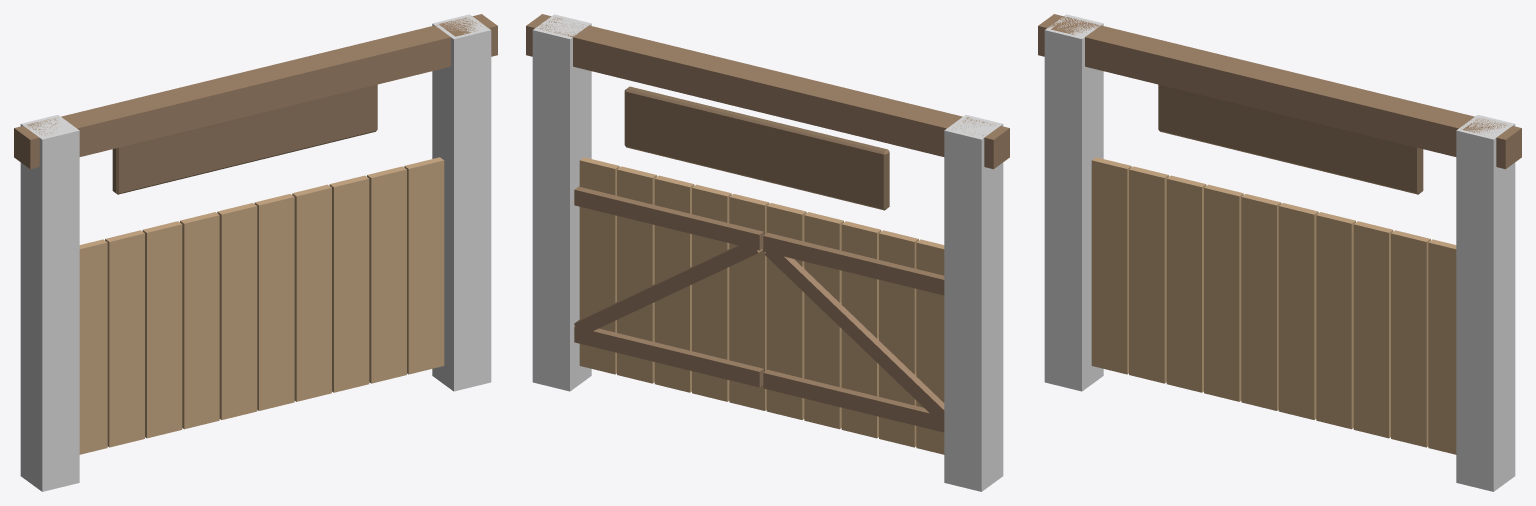
The model's file is Gate.fbx.
The picture shows the model from 3 angles, left to right: view 1: azimuth 30°, elevation 25°; view 2: azimuth 150°, elevation 25°; view 3: azimuth 330°, elevation 25°; orthographic projection.
Visible parts, largest first — view 1: Door_R, Door_L, Frame, COL_Post, COL_Post.001; view 2: Door_R, Door_L, Frame, COL_Post, COL_Post.001; view 3: Door_L, Door_R, Frame, COL_Post.001, COL_Post.
Boxes of the visible parts, bbox=[...] form: Door_R: bbox=[254, 157, 444, 410]; Door_L: bbox=[79, 203, 257, 454]; Frame: bbox=[14, 14, 497, 194]; COL_Post: bbox=[20, 115, 79, 491]; COL_Post.001: bbox=[432, 14, 491, 391]; Door_R: bbox=[574, 157, 769, 410]; Door_L: bbox=[763, 203, 944, 454]; Frame: bbox=[526, 14, 1009, 210]; COL_Post: bbox=[944, 115, 1003, 491]; COL_Post.001: bbox=[532, 14, 591, 391]; Door_L: bbox=[1091, 157, 1281, 410]; Door_R: bbox=[1278, 203, 1456, 454]; Frame: bbox=[1038, 14, 1521, 194]; COL_Post.001: bbox=[1456, 115, 1515, 491]; COL_Post: bbox=[1044, 14, 1103, 391].
Bounding box in the file's own units: 5 × 3.6 × 0.45.
